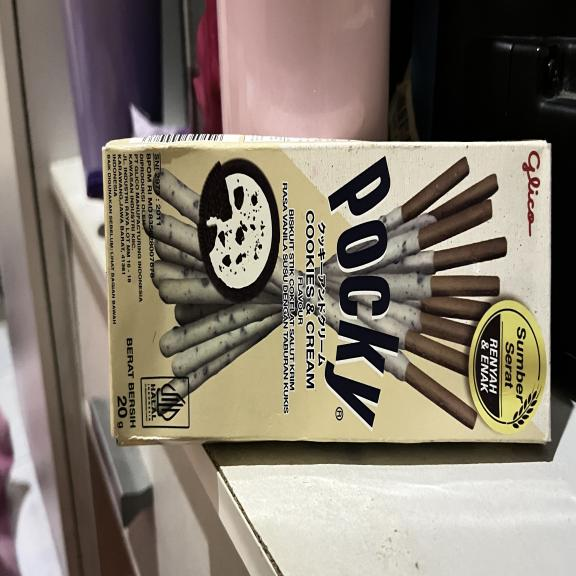Kertas: (103, 143, 551, 442)
